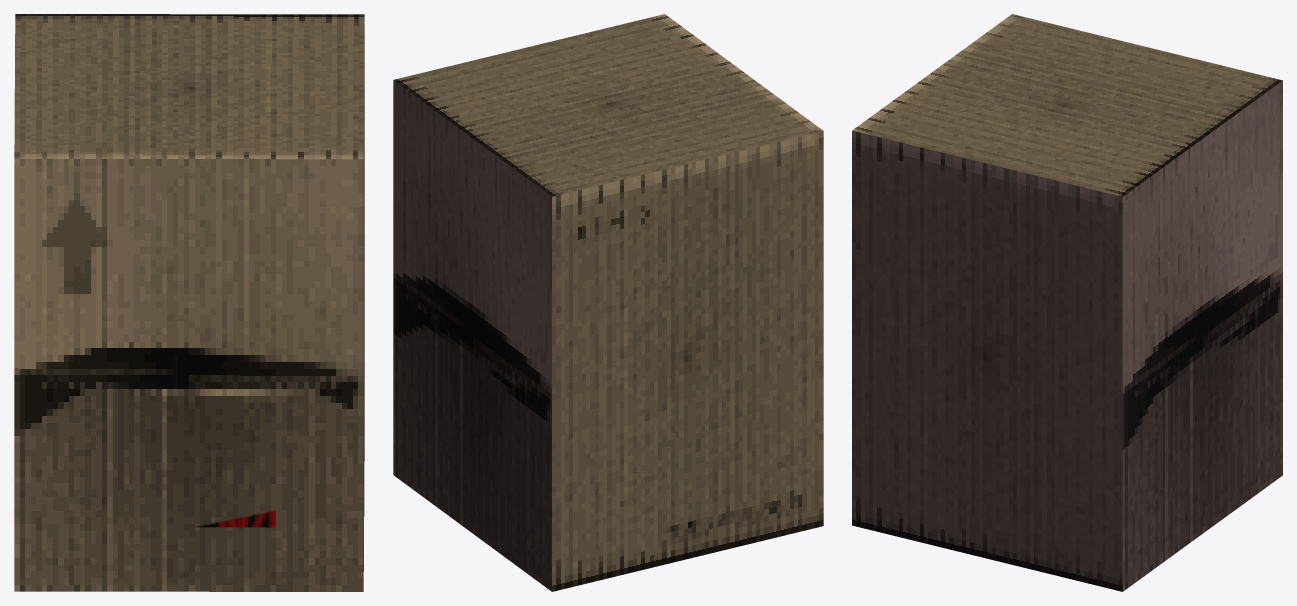
File: primary_223.glb
The picture shows the model from 3 angles, left to right: view 1: azimuth 30°, elevation 25°; view 2: azimuth 150°, elevation 25°; view 3: azimuth 270°, elevation 25°; orthographic projection. The views are drawn at different scales.
Visible parts, largest first — view 1: Object; view 2: Object; view 3: Object.
Part boxes in pixels (x1=…): Object: x1=14, y1=14, x2=364, y2=591; Object: x1=393, y1=14, x2=823, y2=591; Object: x1=852, y1=14, x2=1282, y2=591.
Bounding box in the file's own units: 1.06 × 1.07 × 1.06.
Materials: 7 (7 with a texture image).
